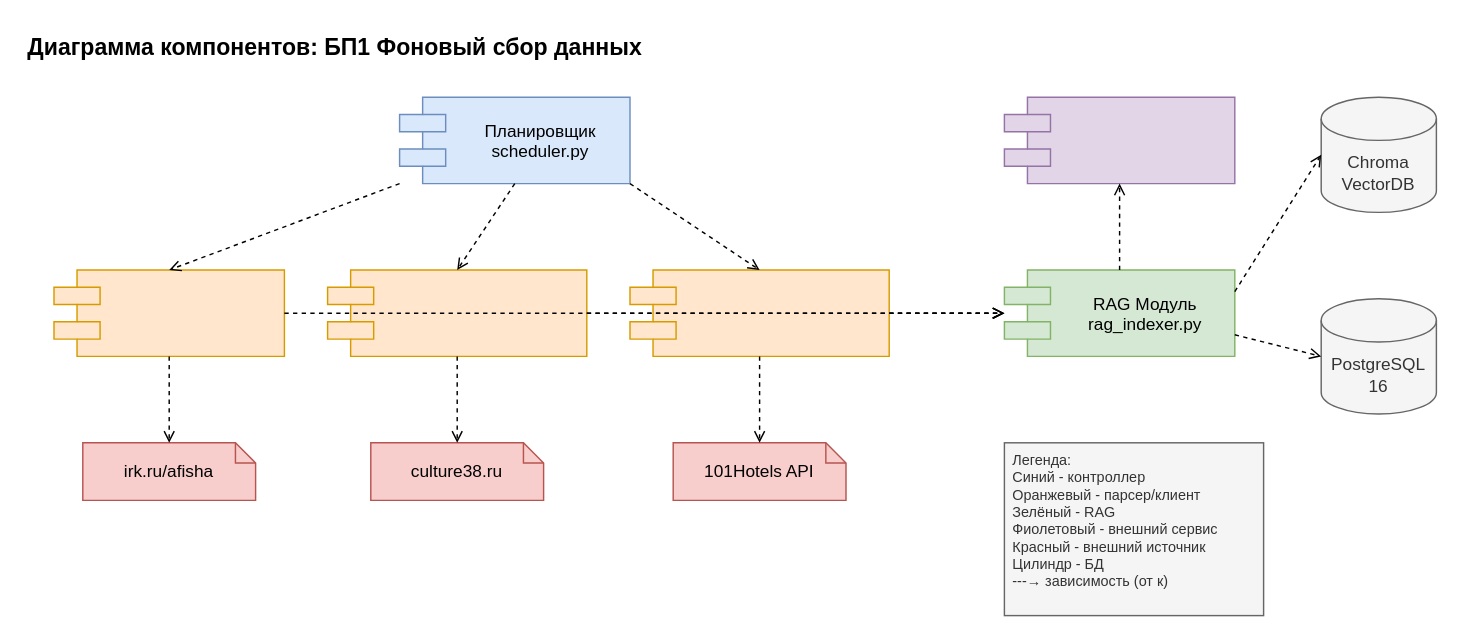
This 1462x641 diagram has some shape labels left out. Here are the shapes that lost their labels. From the top down, the centre of each, then its label:
At point 1119,140: "GigaChatEmbeddings embeddings.py".
At point 168,312: "ПарсерИрк parser_irk.py".
At point 456,312: "ПарсерCulture38 parser_culture38.py".
At point 759,312: "Клиент101Hotels hotels_client.py".
